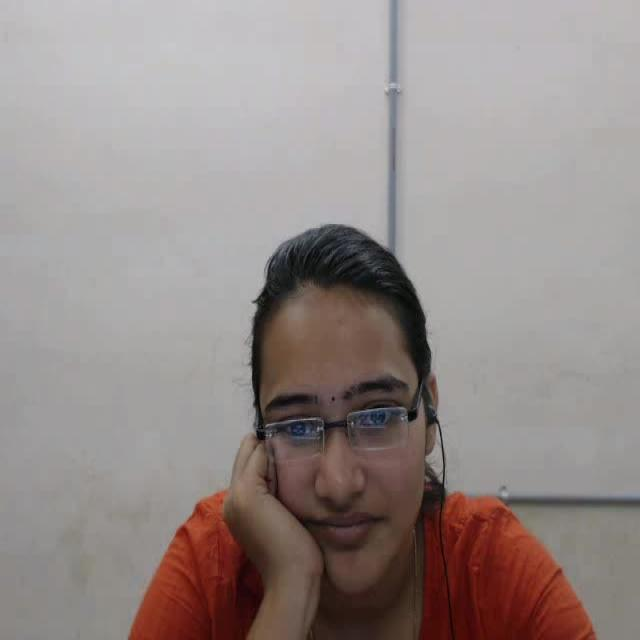Bored: (207, 180, 493, 640)
